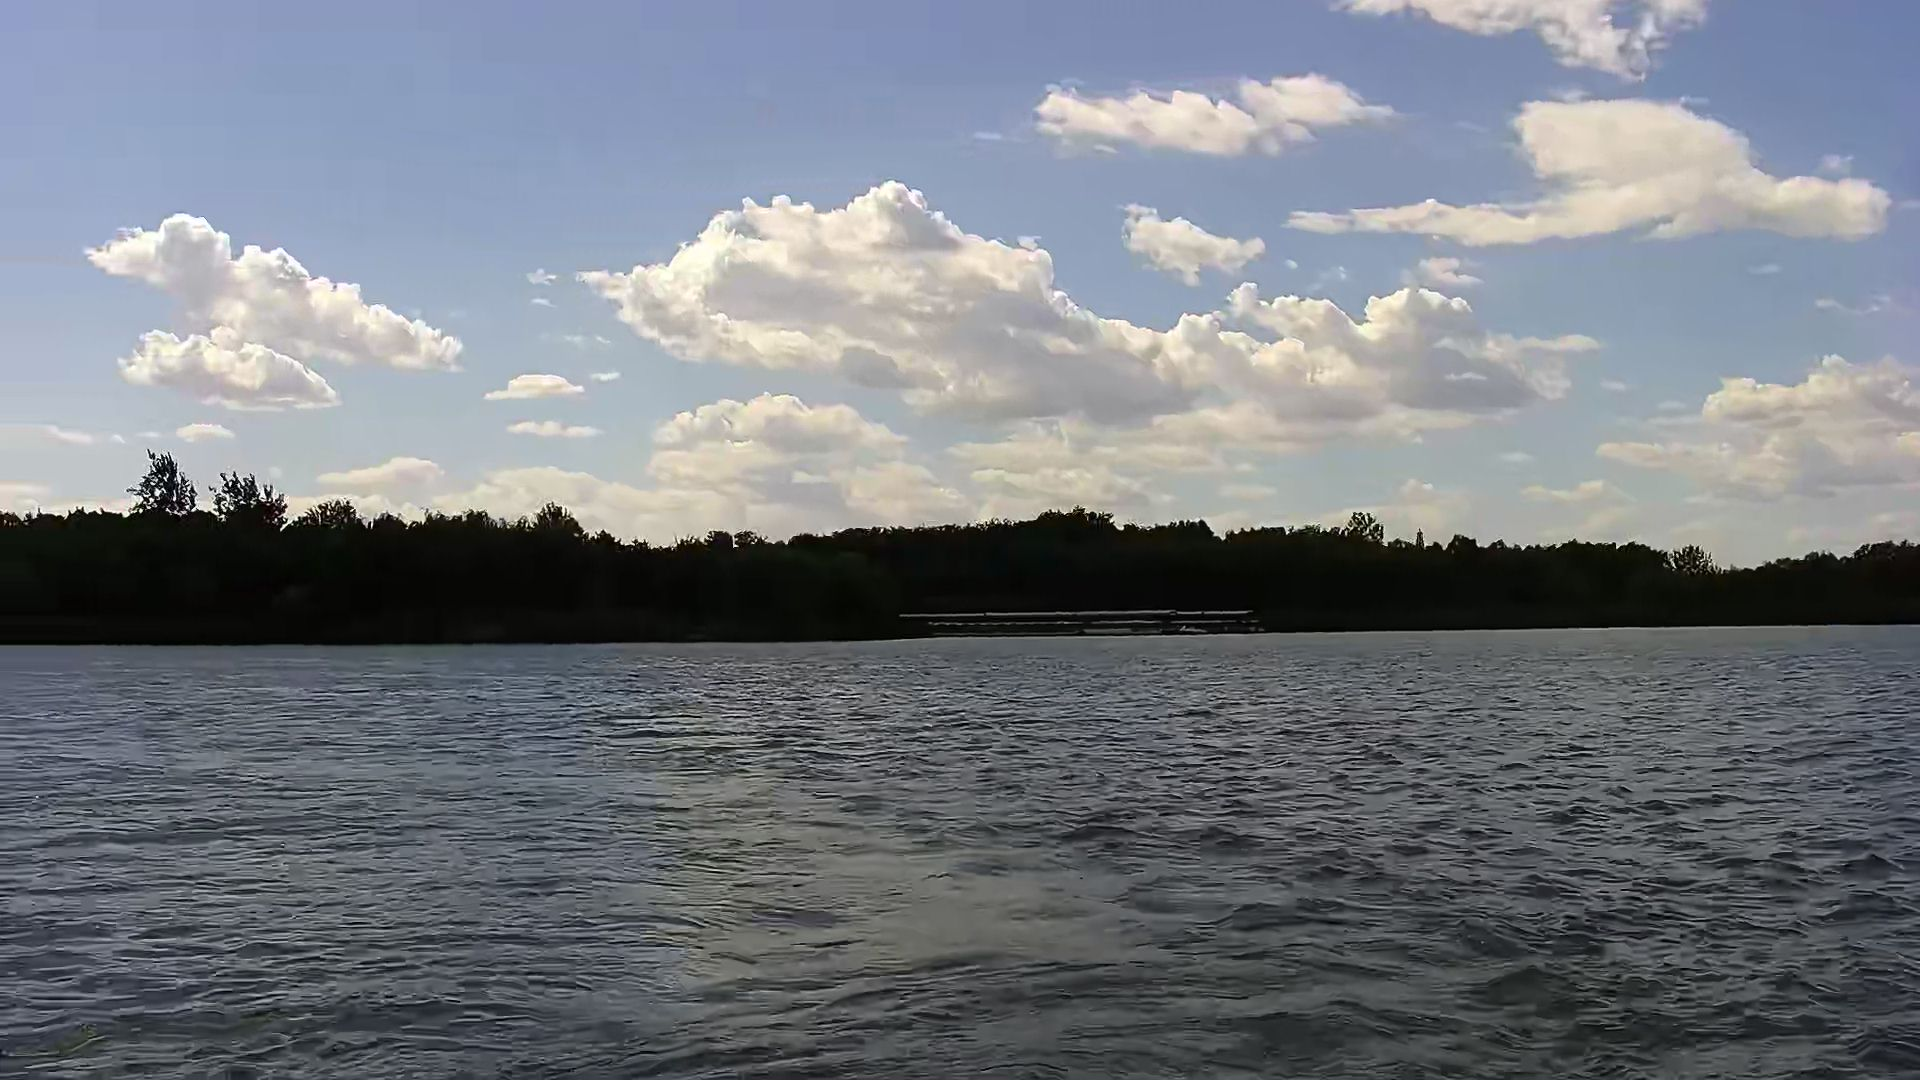harbor: (911, 604, 1265, 632)
